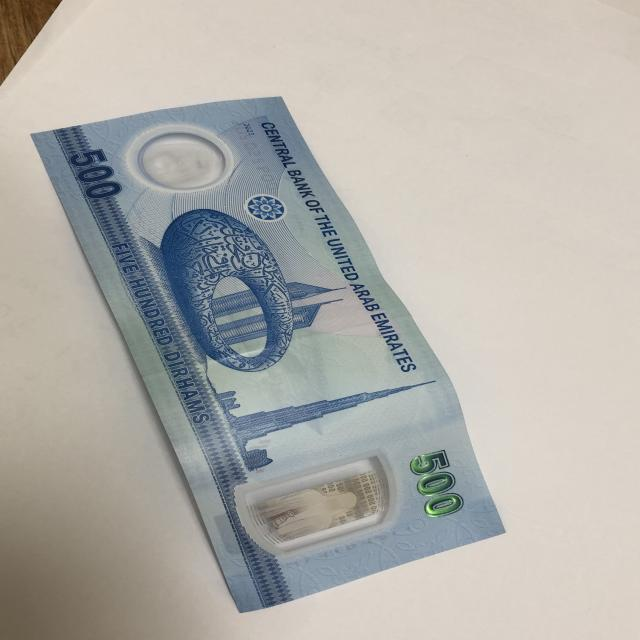500_AED: (28, 88, 514, 616)
